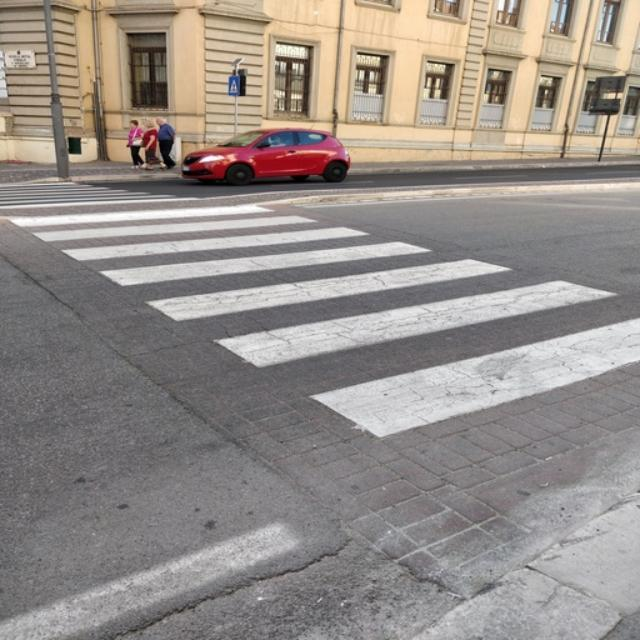sidewalk: (0, 178, 640, 443)
